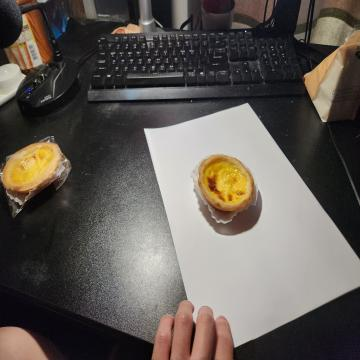EggTart: (200, 154, 254, 212)
